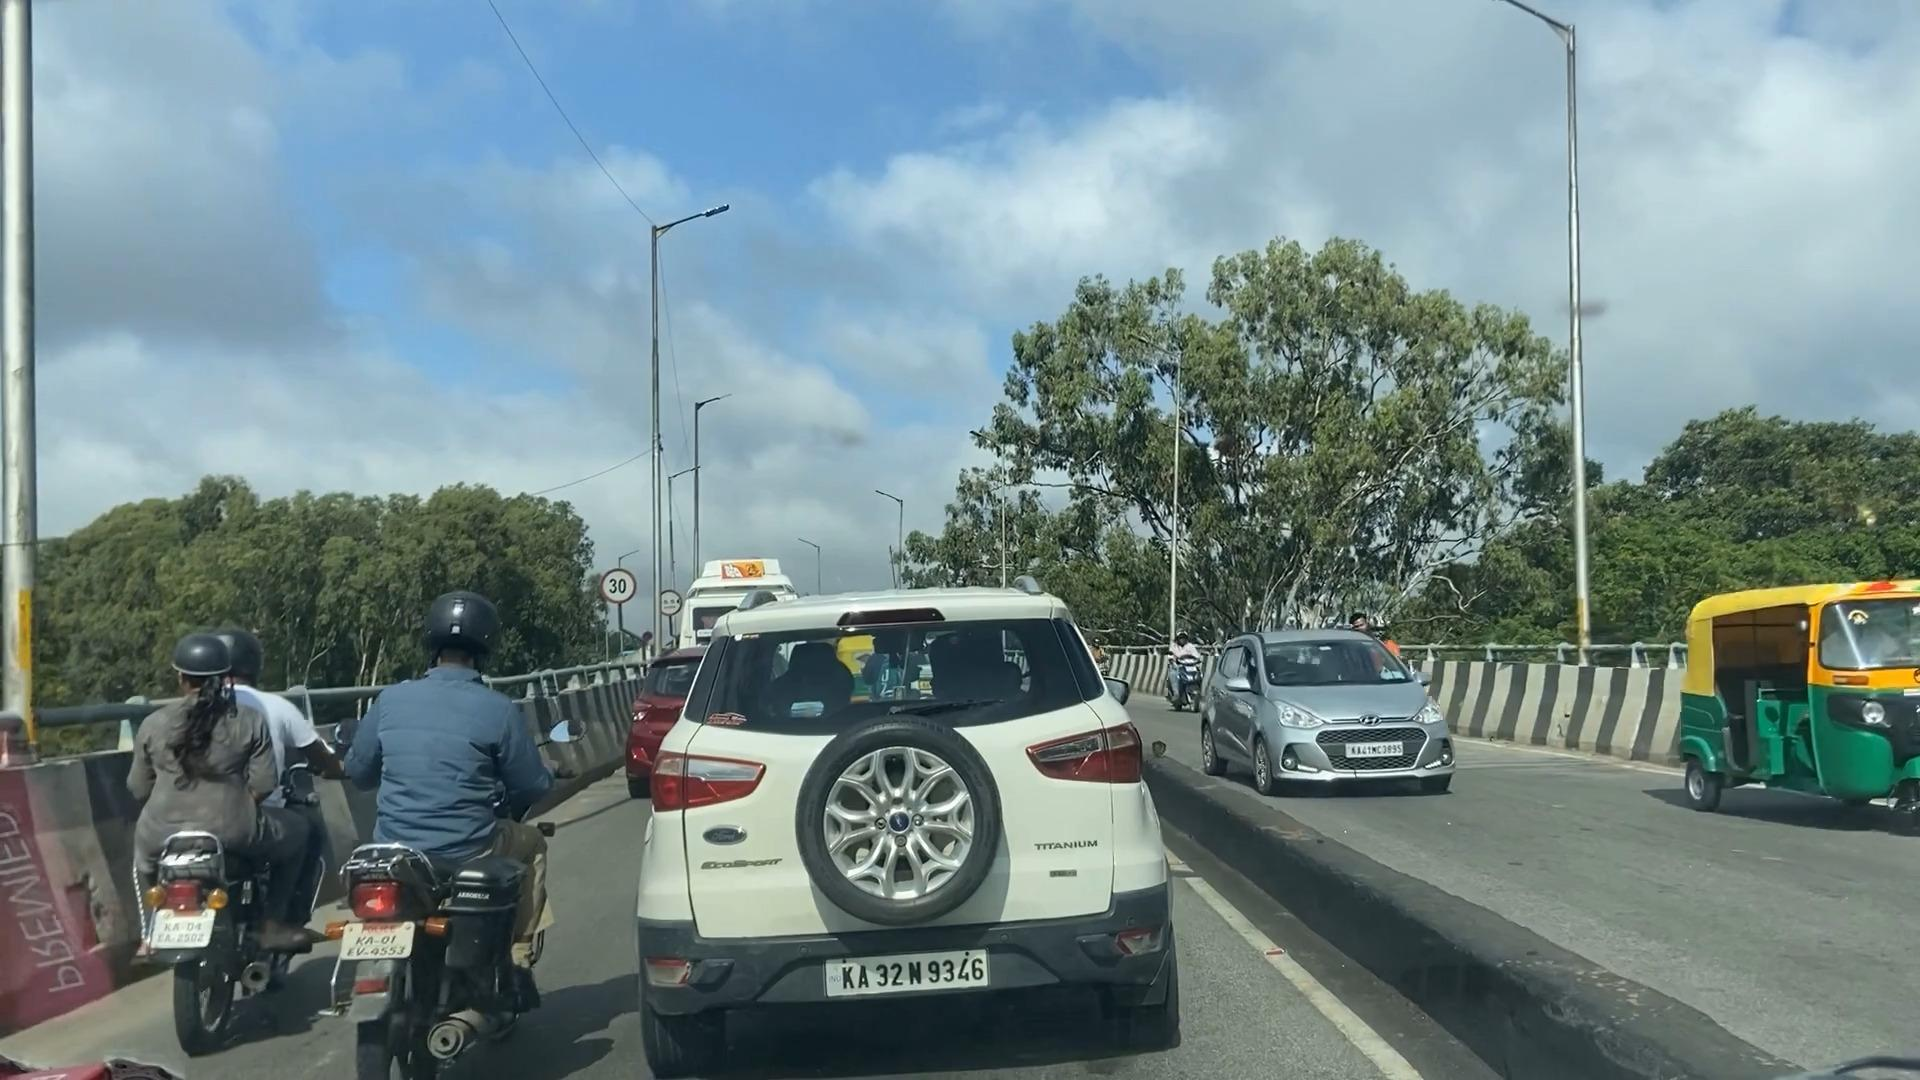LMV: (636, 591, 1150, 1059), (338, 554, 547, 1080)
